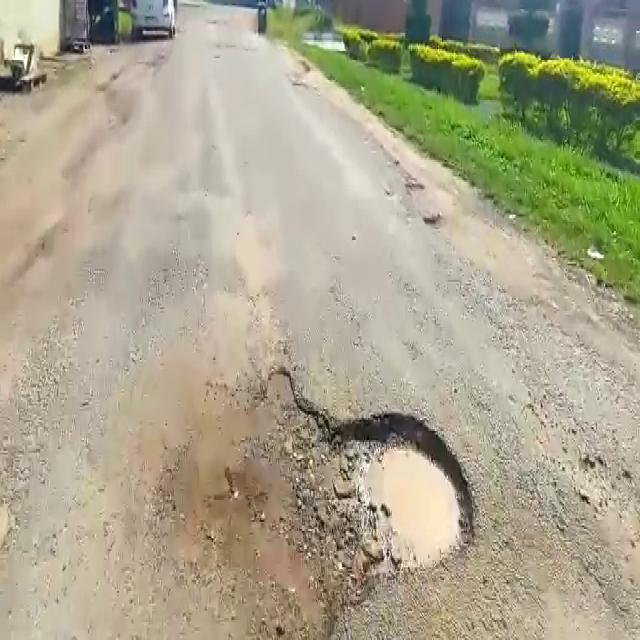Pothole: (153, 366, 483, 639)
